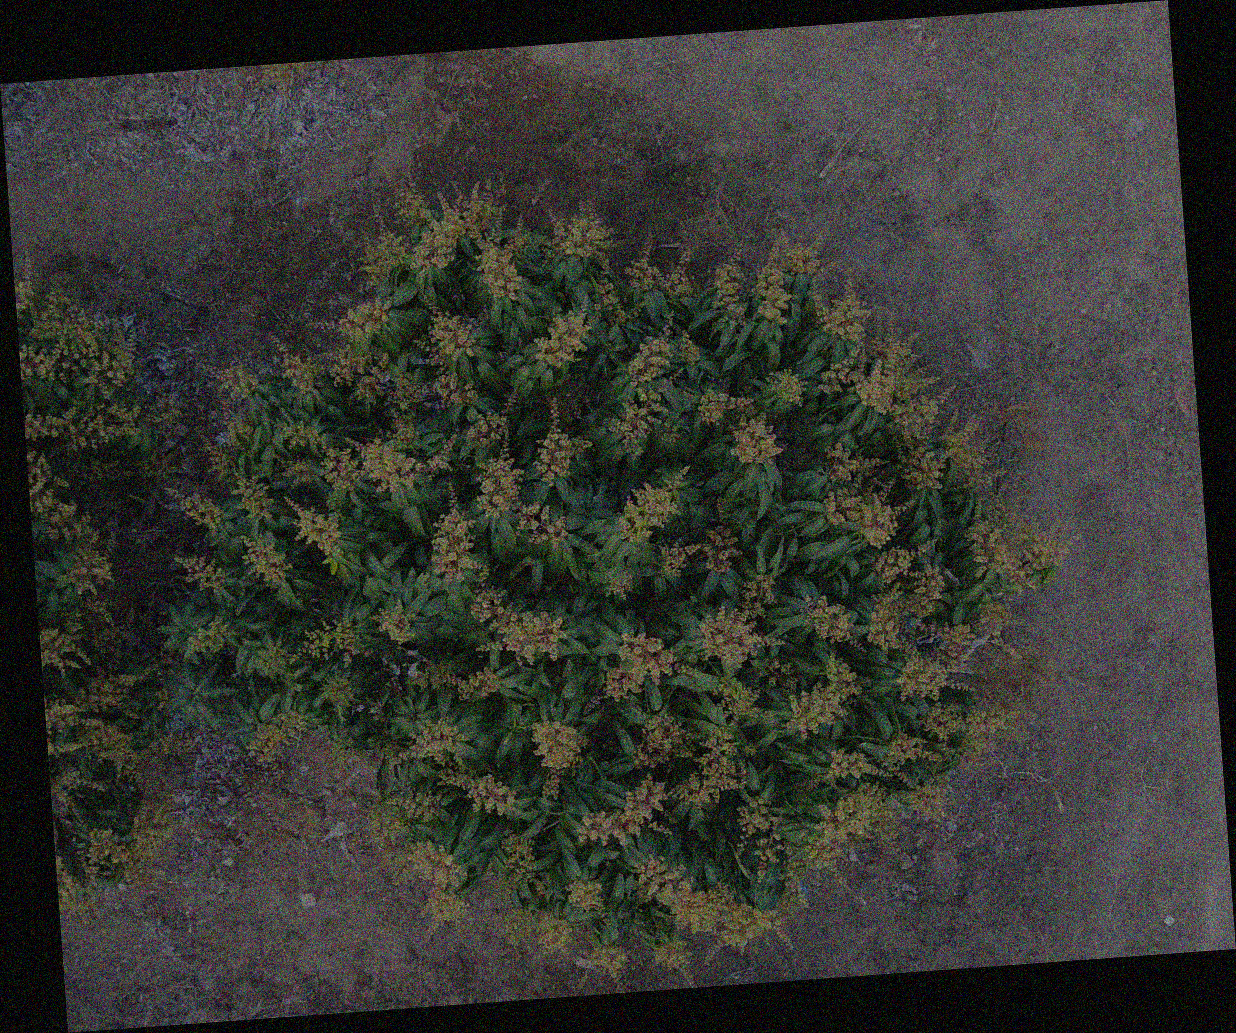flowers: (868, 565, 1016, 698), (575, 731, 746, 842), (323, 372, 479, 491), (820, 323, 954, 441), (639, 852, 802, 948), (399, 185, 529, 303), (18, 277, 133, 401), (470, 393, 563, 547), (56, 802, 179, 912), (388, 718, 513, 819), (32, 449, 113, 597), (783, 785, 897, 884), (46, 675, 152, 781), (607, 320, 686, 455), (534, 284, 648, 365), (583, 632, 693, 709), (825, 442, 902, 548), (278, 336, 389, 407), (471, 585, 565, 665), (969, 516, 1071, 589), (900, 421, 999, 492), (40, 592, 122, 675), (754, 233, 825, 326), (656, 500, 740, 575), (700, 389, 781, 466), (25, 405, 144, 455), (788, 656, 862, 736), (819, 736, 940, 785), (407, 842, 467, 936), (431, 487, 487, 585), (617, 469, 692, 541), (535, 397, 590, 485), (701, 607, 782, 665), (813, 268, 871, 345), (534, 721, 589, 798), (625, 238, 693, 300), (736, 797, 784, 882), (544, 206, 614, 265), (414, 301, 475, 366), (411, 660, 501, 702), (717, 677, 779, 732), (631, 715, 696, 768), (370, 793, 442, 840), (505, 906, 573, 955), (311, 301, 392, 342), (496, 833, 545, 900), (51, 767, 117, 816), (806, 595, 860, 652), (289, 496, 341, 557), (923, 703, 1006, 740), (359, 225, 407, 286), (249, 712, 307, 762), (169, 485, 223, 536), (300, 621, 357, 668), (75, 455, 171, 482), (714, 246, 746, 327), (874, 543, 936, 583), (244, 535, 291, 588), (201, 359, 260, 400), (177, 554, 225, 592), (235, 471, 272, 520), (906, 777, 947, 821), (740, 574, 776, 621), (375, 603, 415, 645), (589, 942, 629, 983), (568, 879, 605, 920), (186, 619, 229, 654), (768, 370, 805, 407), (203, 435, 234, 477), (255, 643, 291, 679), (146, 393, 181, 430), (276, 453, 313, 486), (654, 939, 691, 971), (224, 406, 253, 448), (762, 661, 798, 694), (149, 732, 196, 757), (285, 421, 323, 450), (322, 676, 353, 704), (144, 653, 181, 677), (329, 741, 360, 768), (680, 331, 700, 365), (607, 573, 632, 598), (662, 421, 679, 443), (156, 690, 170, 710)
